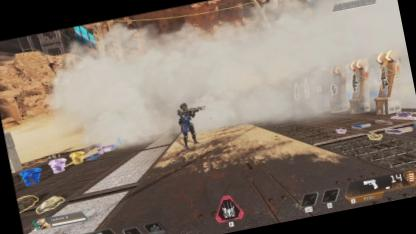Target: (174, 100, 198, 147)
